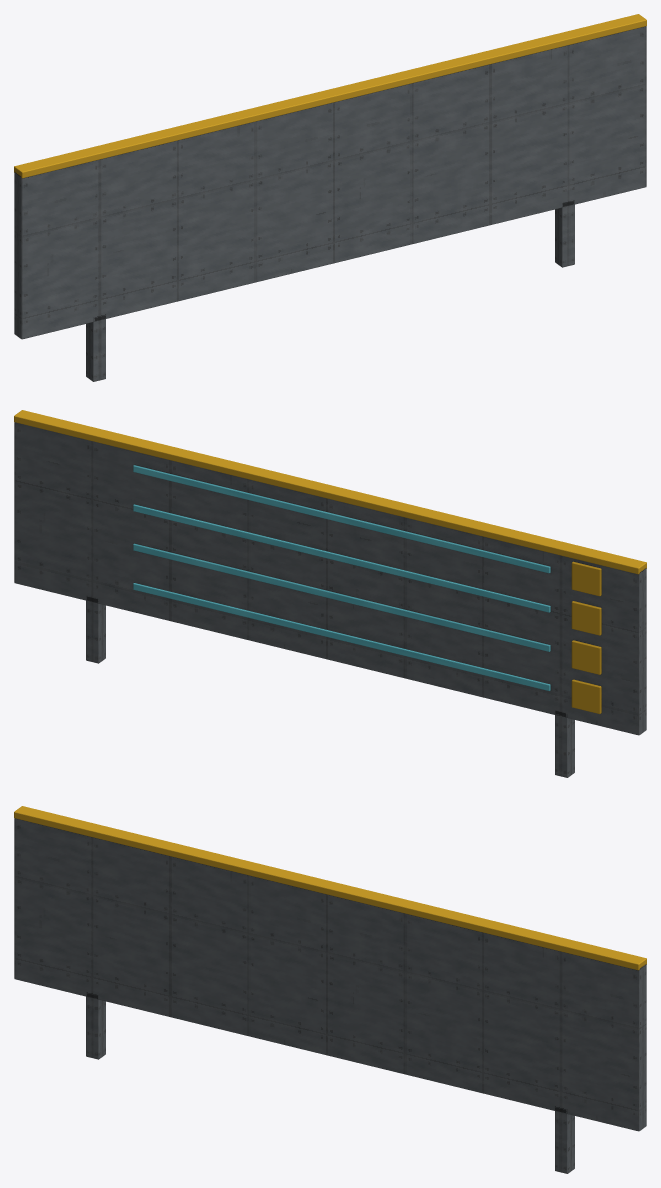
File: base_directory_board.glb
3 views of the same model, one above another, from view 1: azimuth 30°, elevation 25°; view 2: azimuth 150°, elevation 25°; view 3: azimuth 330°, elevation 25° (orthographic).
Visible parts, largest first — view 1: base_directory_board; view 2: base_directory_board; view 3: base_directory_board.
Boxes of the visible parts, x1,y1,x2,y2 form: base_directory_board: (14,14,646,381); base_directory_board: (14,410,646,777); base_directory_board: (14,806,646,1173).
Bounding box in the file's own units: 12 × 4.18 × 0.31.
3 materials, 3 textured.
